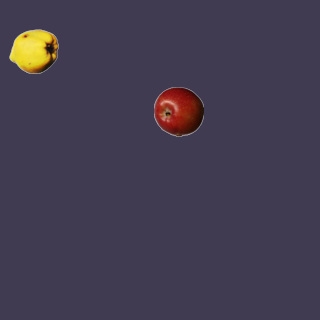Apple Braeburn: (153, 86, 203, 136)
Quince: (8, 26, 58, 76)
